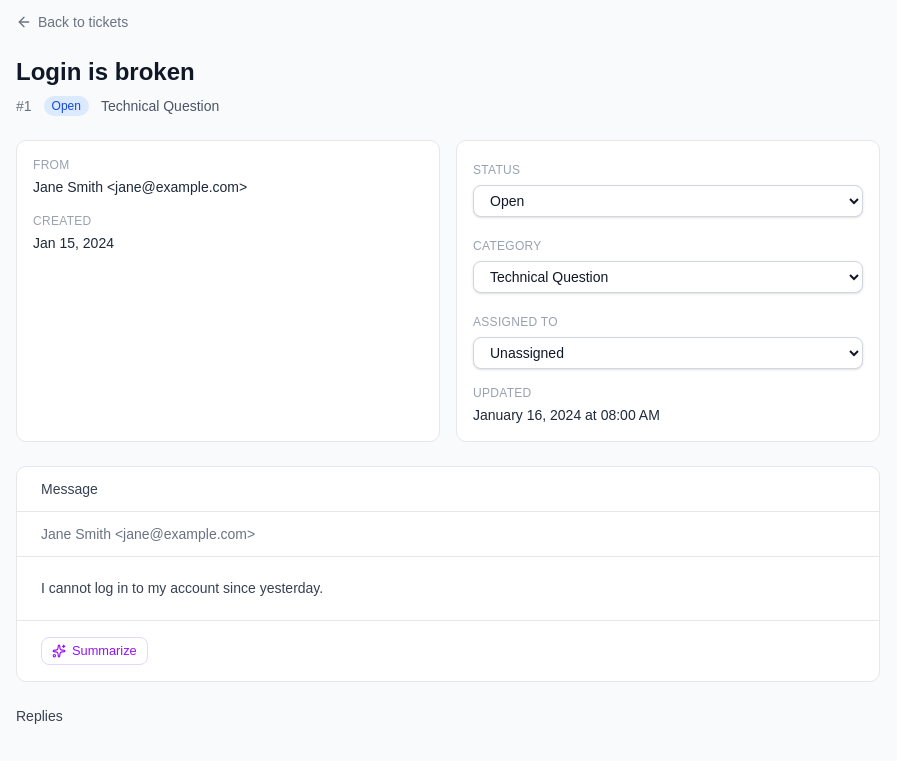
Test case: TicketDetailPage › mutation error state › shows 'Failed to update ticket.' when the PATCH request fails
Select "Alice Agent" in the dropdown labelled "Assigned to": coordinates (668, 353) x1=473 y1=337 x2=863 y2=369
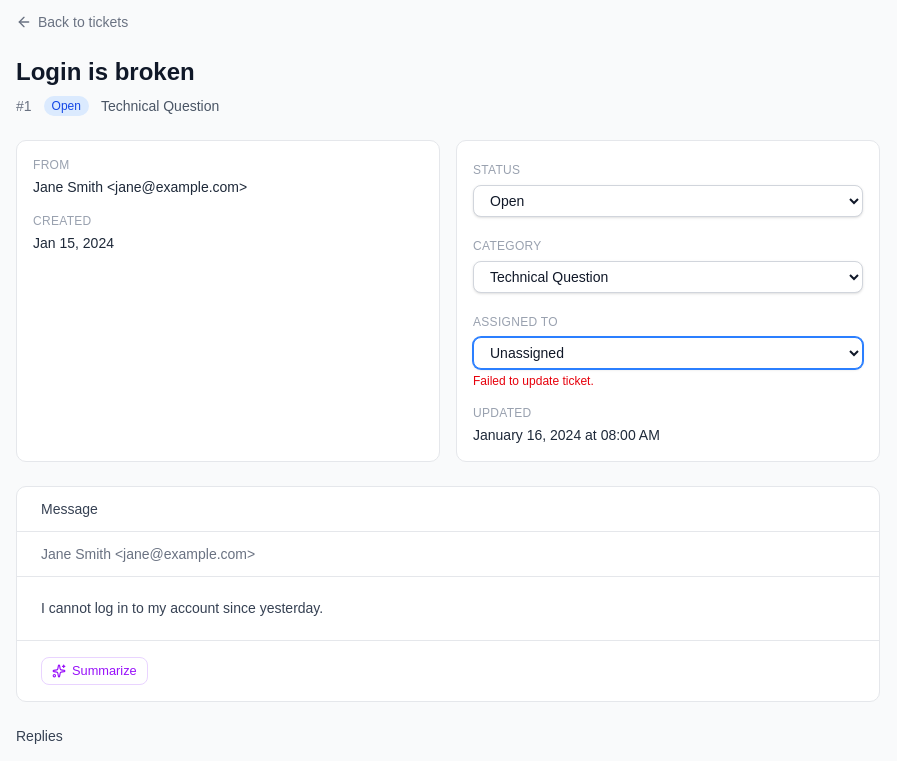
Expected: the text "Failed to update ticket." is shown, x1=473 y1=374 x2=594 y2=388
